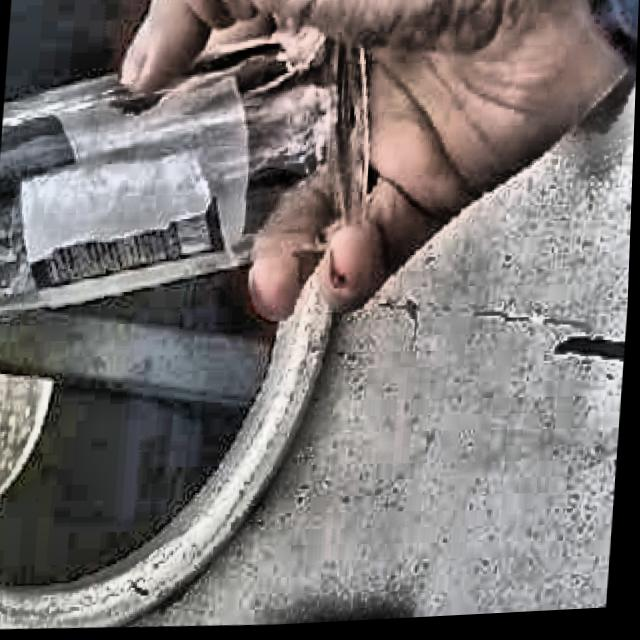glass: (0, 35, 369, 313)
